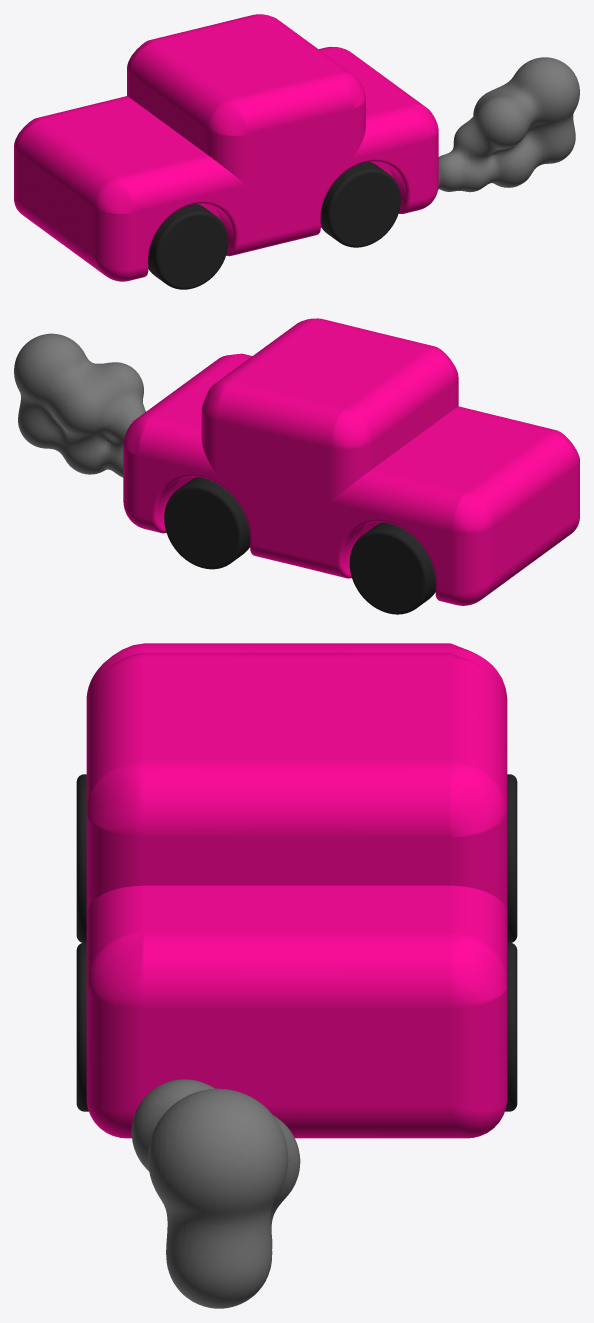
Rendered from car.glb.
3 renders of one model, top to bottom at view 1: azimuth 30°, elevation 25°; view 2: azimuth 150°, elevation 25°; view 3: azimuth 270°, elevation 25°, orthographic. The views are drawn at different scales.
Parts seen in each view (by area): view 1: car_body, bad_bits, wheel3, wheel1; view 2: car_body, bad_bits, wheel4, wheel2; view 3: car_body, bad_bits, wheel4, wheel3, wheel1, wheel2.
Boxes of the visible parts, x1,y1,x2,y2 form: car_body: (14, 14, 438, 281); bad_bits: (438, 57, 579, 192); wheel3: (320, 161, 400, 247); wheel1: (148, 204, 228, 289); car_body: (123, 318, 579, 605); bad_bits: (14, 333, 145, 477); wheel4: (164, 477, 250, 569); wheel2: (349, 522, 435, 614); car_body: (86, 643, 507, 1138); bad_bits: (131, 1079, 300, 1308); wheel4: (505, 942, 517, 1111); wheel3: (76, 942, 88, 1111); wheel1: (76, 774, 86, 942); wheel2: (507, 774, 517, 942).
Bounding box in the file's own units: 4 × 1.33 × 1.53.
